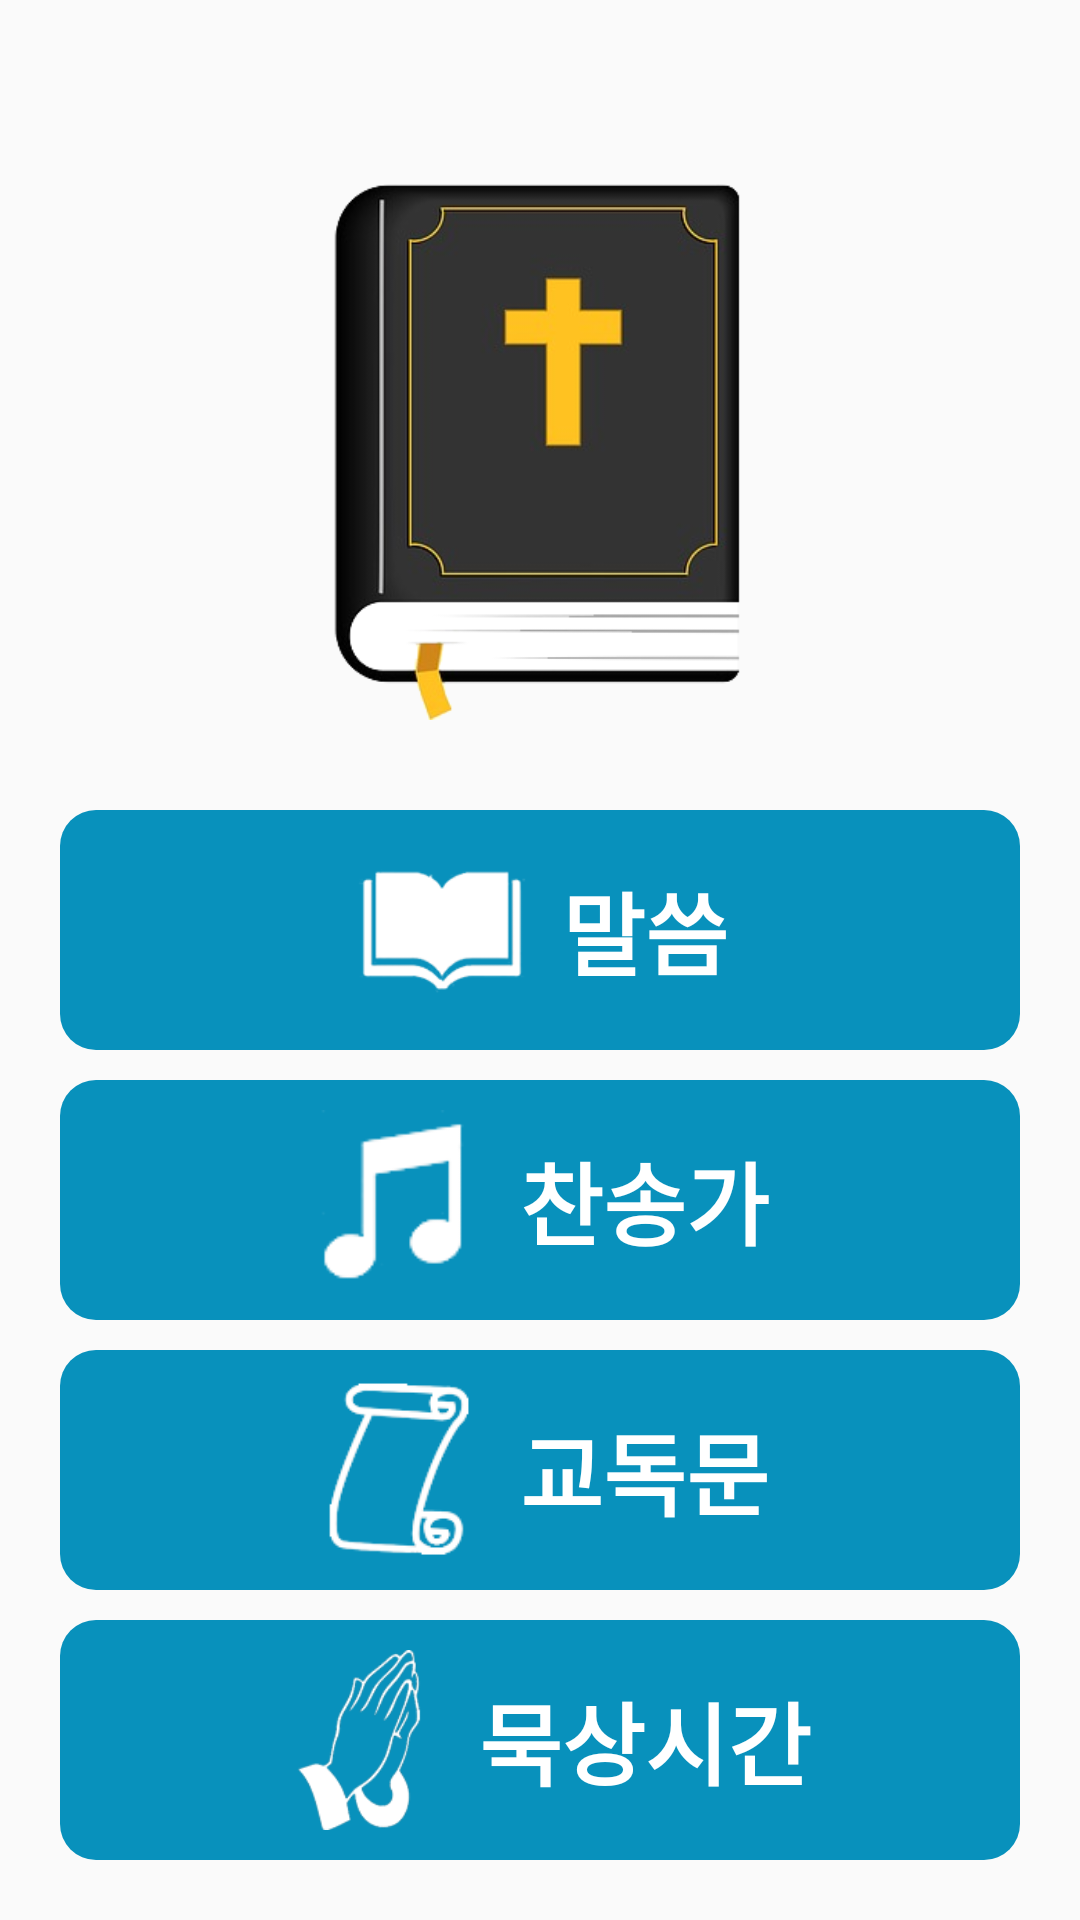

Icon click points for this 1080px x 1920px phone screenshot, format (x,y):
contemplation: (359,1740)
hymn: (393,1201)
malsseum: (441,930)
responsive reading: (399,1469)
